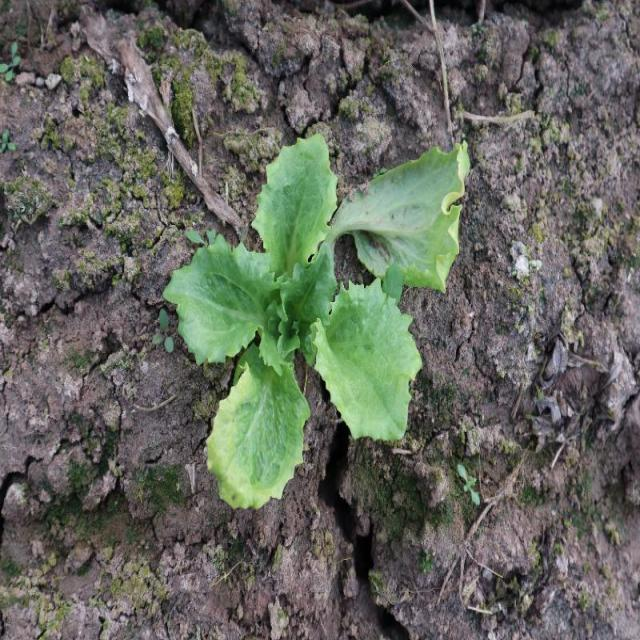crop: (163, 131, 472, 513)
